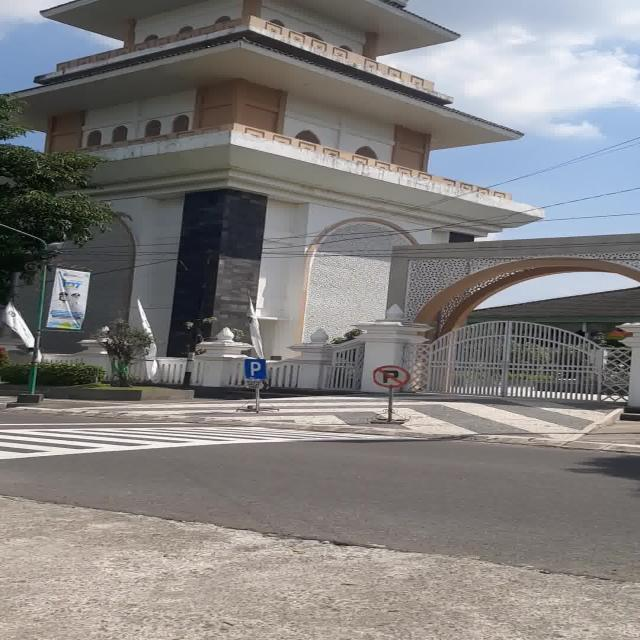Dilarang Parkir: (372, 365, 410, 388)
